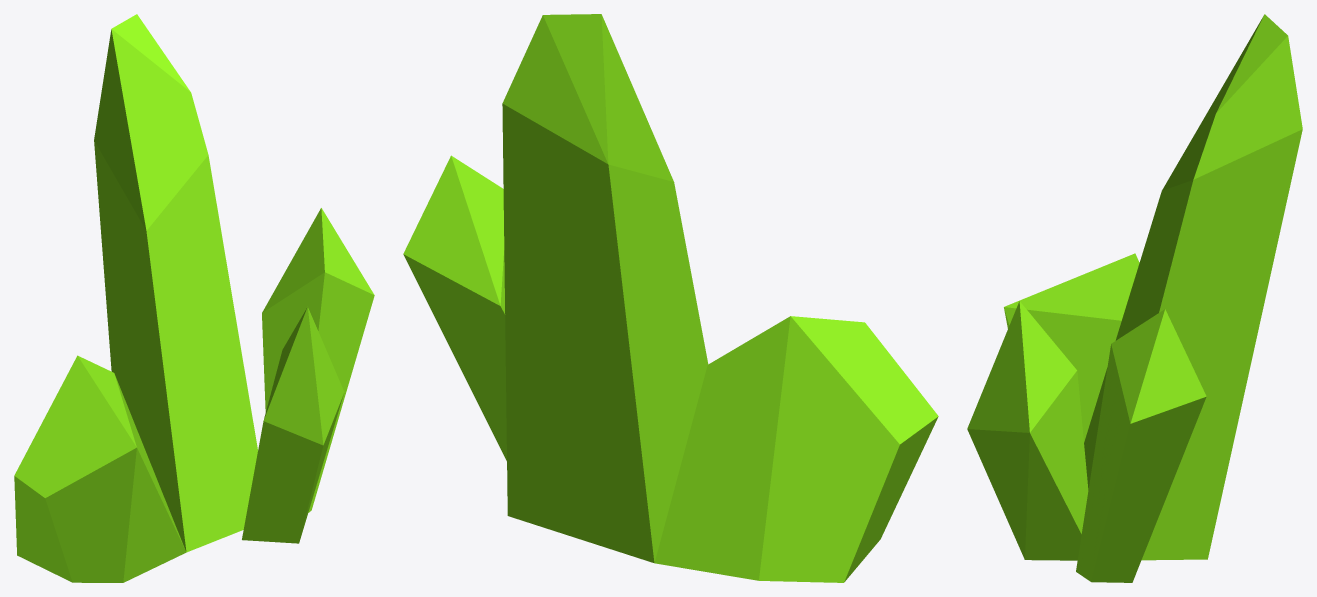
Rendered from Crystal-D04.fbx.
3 renders of one model, left to right at view 1: azimuth 30°, elevation 25°; view 2: azimuth 150°, elevation 25°; view 3: azimuth 270°, elevation 25°, orthographic. The views are drawn at different scales.
Visible parts, largest first — view 1: Crystal-D04; view 2: Crystal-D04; view 3: Crystal-D04.
Part boxes in pixels (x1=…): Crystal-D04: x1=14, y1=14, x2=374, y2=582; Crystal-D04: x1=403, y1=14, x2=938, y2=582; Crystal-D04: x1=967, y1=14, x2=1302, y2=582.
Size of the model in its own units: 169 by 199 by 120.
